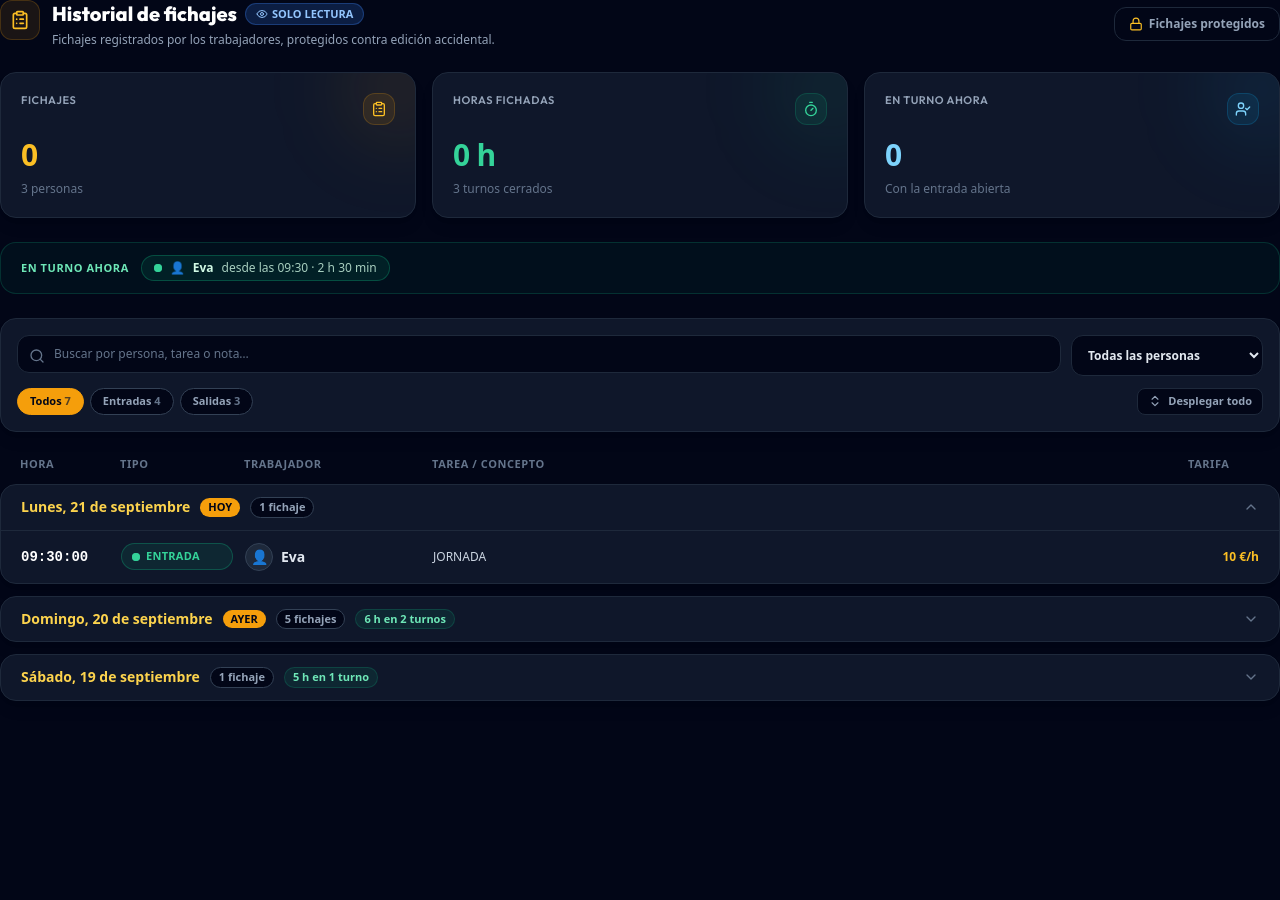
Test case: FichajesTab › cada salida enseña lo que duró y costó su turno
This screenshot has width=1280, height=900.
Click the button "Domingo, 20 de septiembre Ayer 5 fichajes 6 h en 2 turnos": click(117, 618) top-left (1, 596), bottom-right (1279, 641)
(page scrolled)
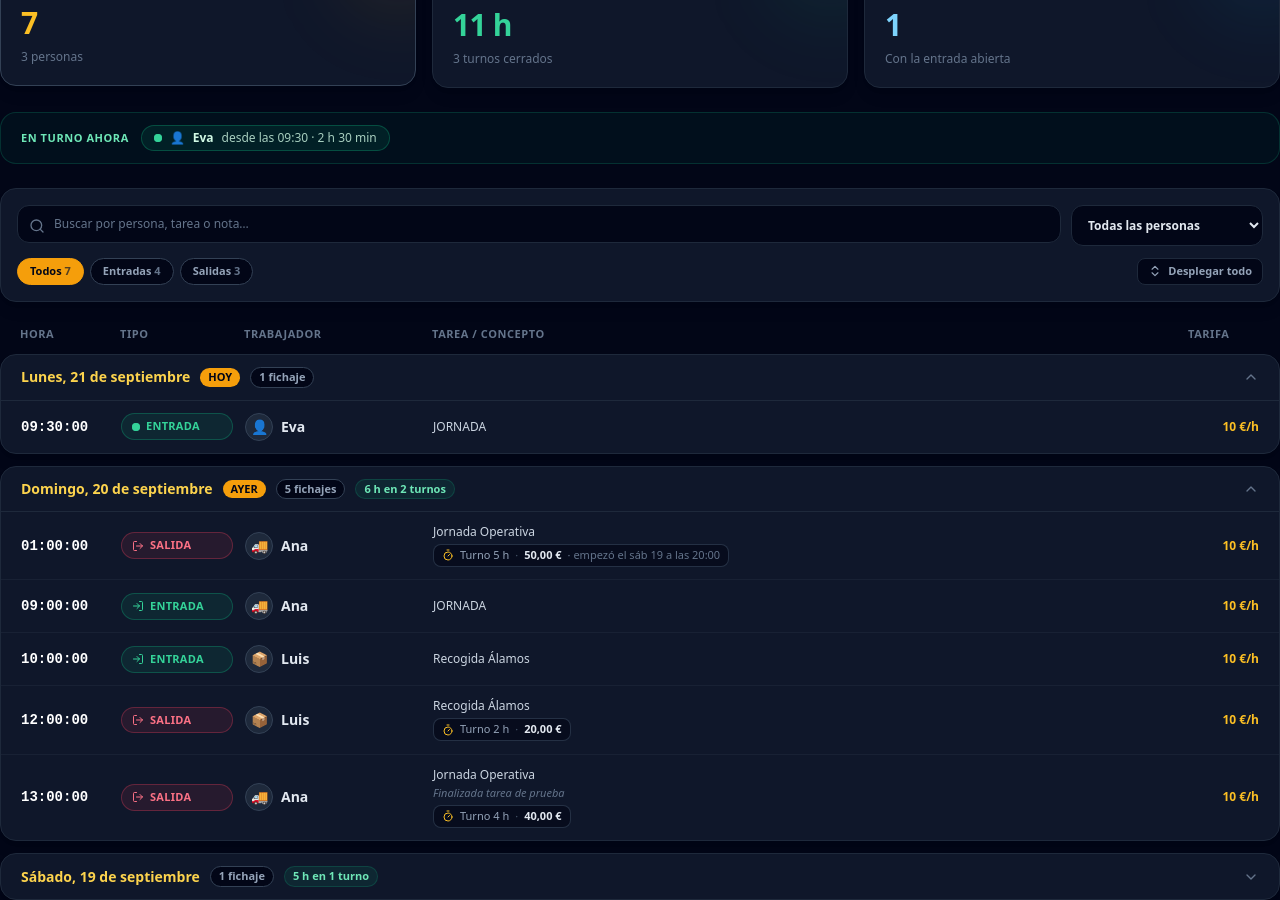
Now the text "Turno 4 h · 40,00 €" is shown, box top-left (433, 805), bottom-right (571, 828)
Now the text "40,00 €" is shown, box top-left (524, 808), bottom-right (562, 824)
